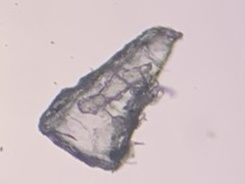microplastic: (37, 26, 184, 174)
